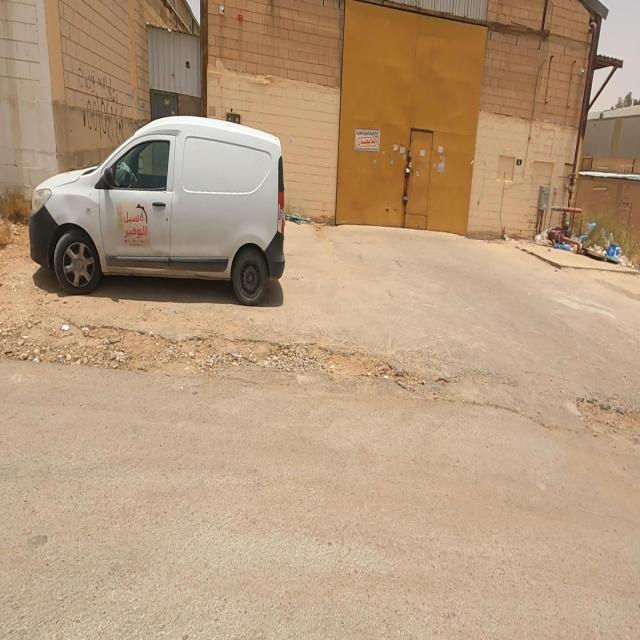Graffiti: (76, 65, 128, 145)
